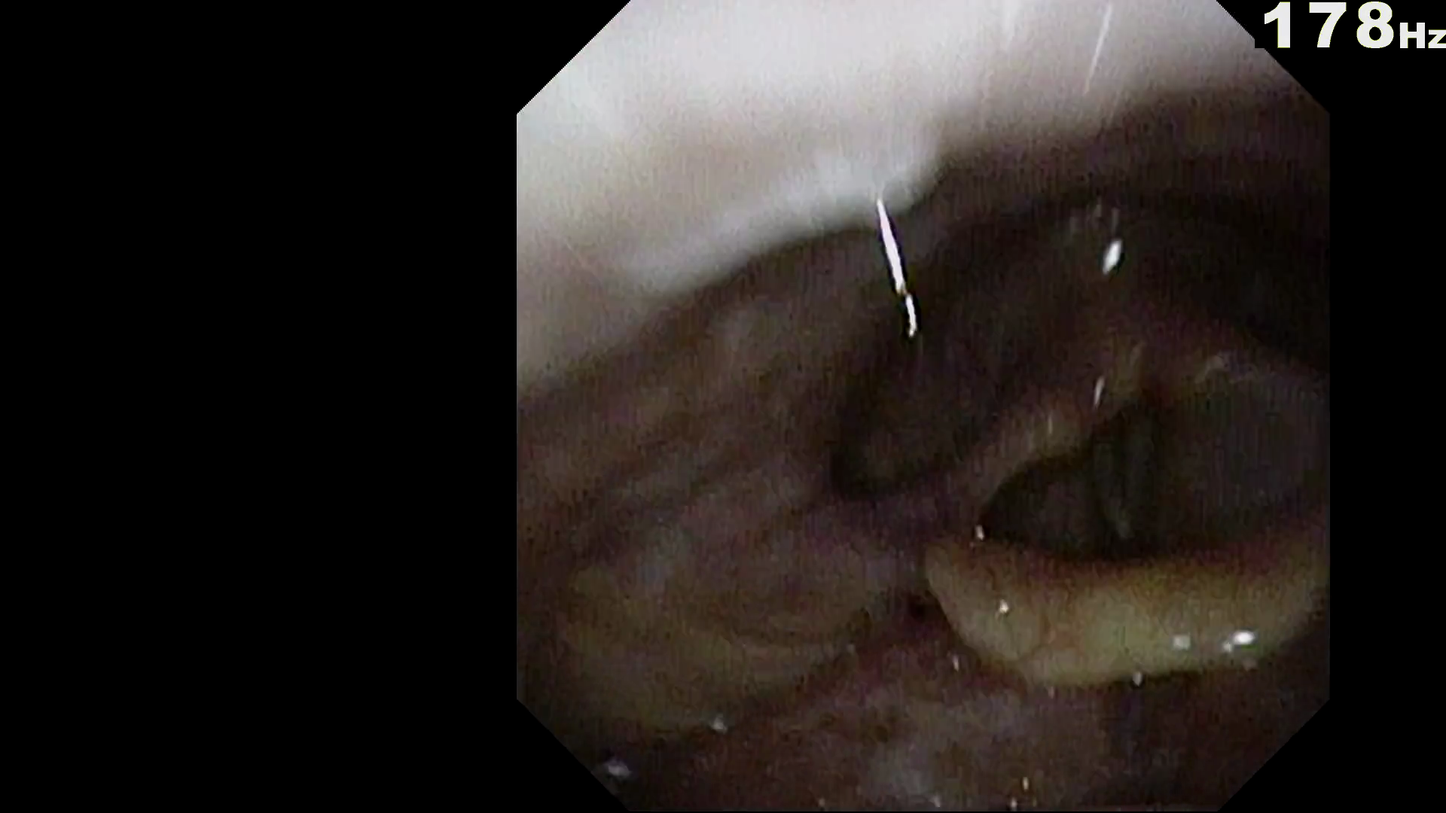epiglottis: (892, 524, 1301, 703)
trachea: (1058, 415, 1180, 554)
